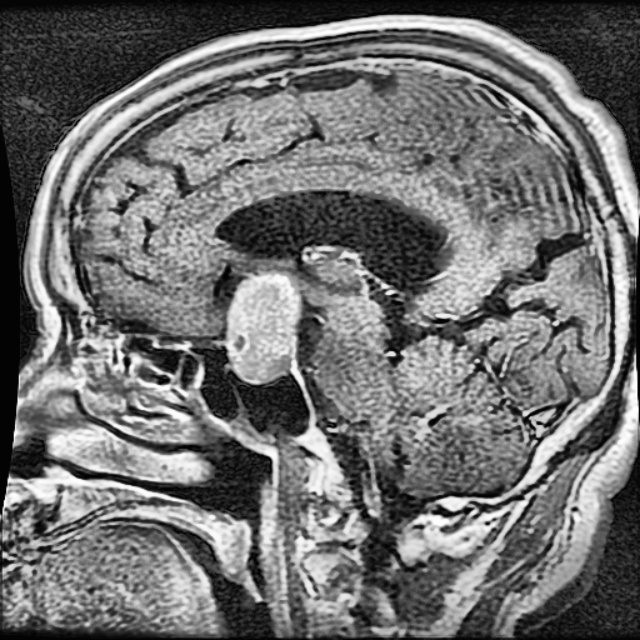Pituitary: (228, 269, 299, 382)
